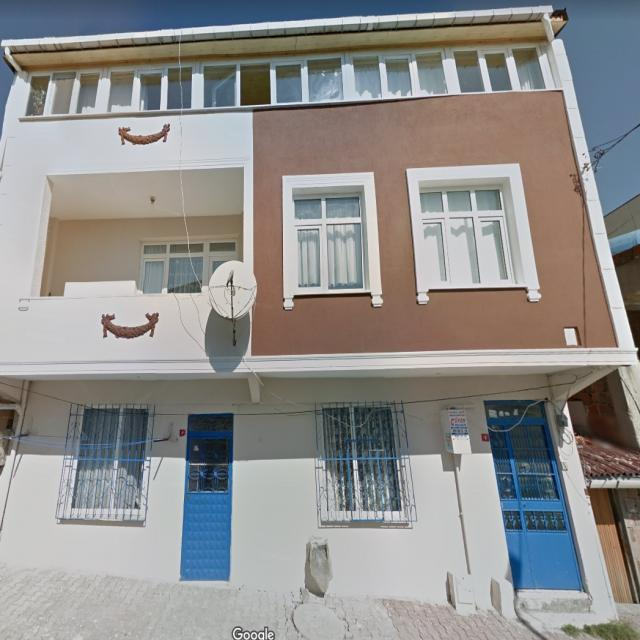Building: (0, 6, 638, 616)
